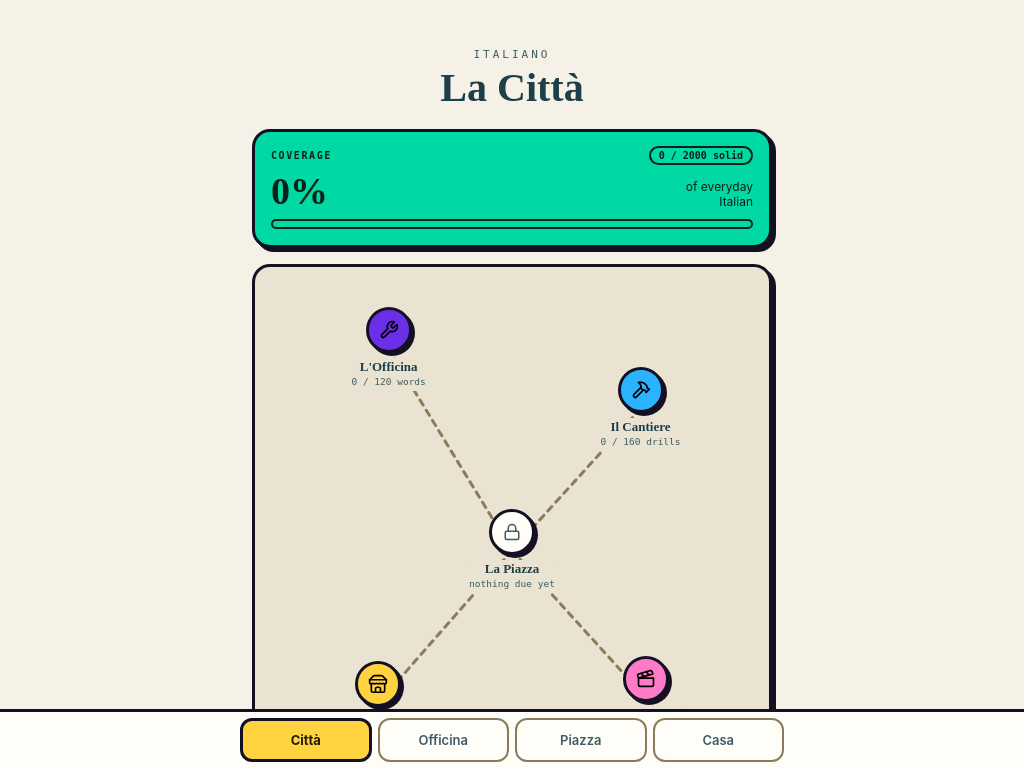
Lo Stadio › opens from Casa, under the Casa tab, and comes back
Click the button "Casa". click: (718, 740)
box: [652, 718, 784, 762]
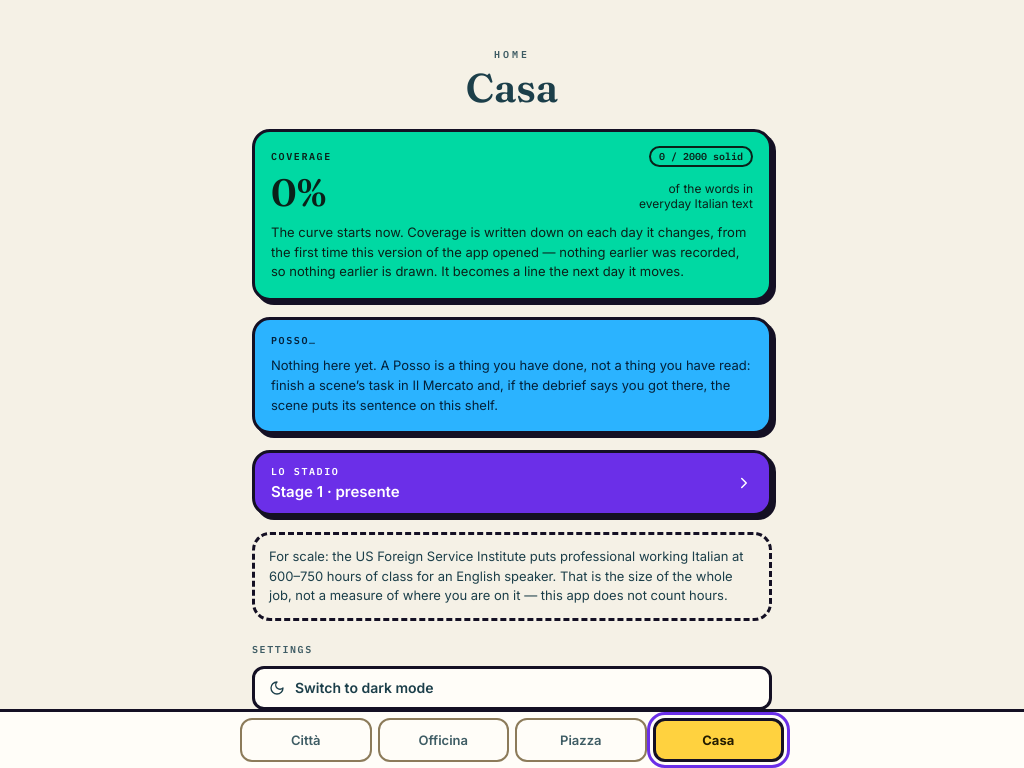
Click the button "Lo Stadio Stage 1 · presente". click: (305, 472)
box: [252, 450, 772, 516]
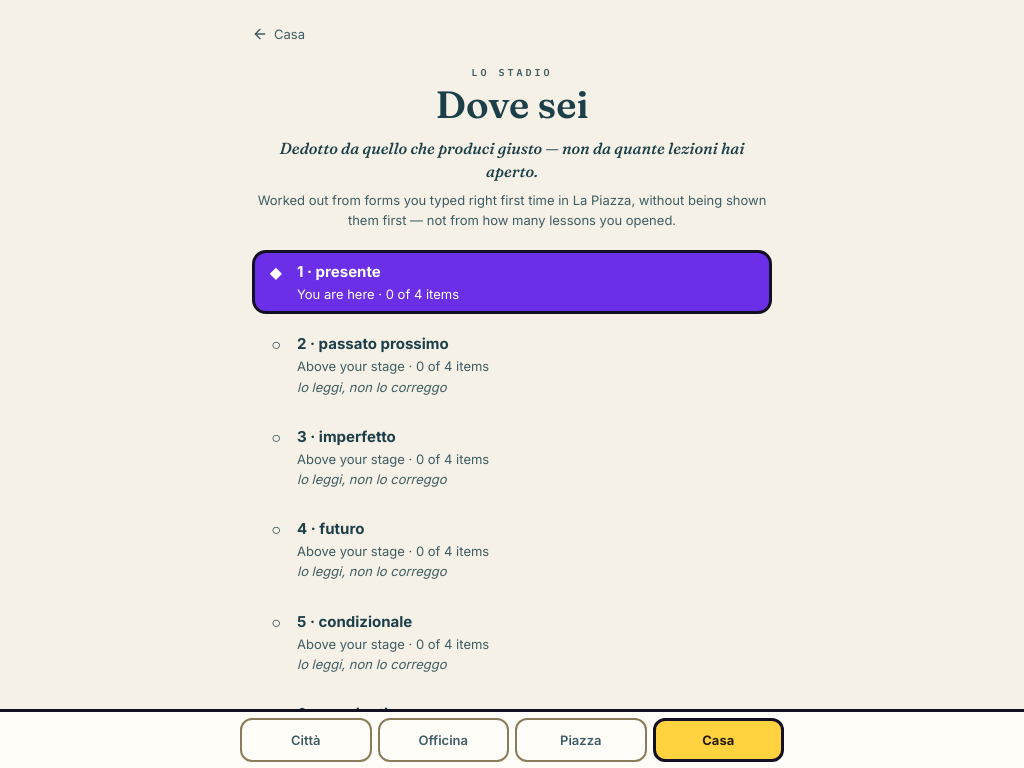
Result: the heading "Dove sei" is shown at [436, 81, 588, 128]
Click the 1st button "Casa". click: (282, 34)
box: [252, 20, 311, 48]
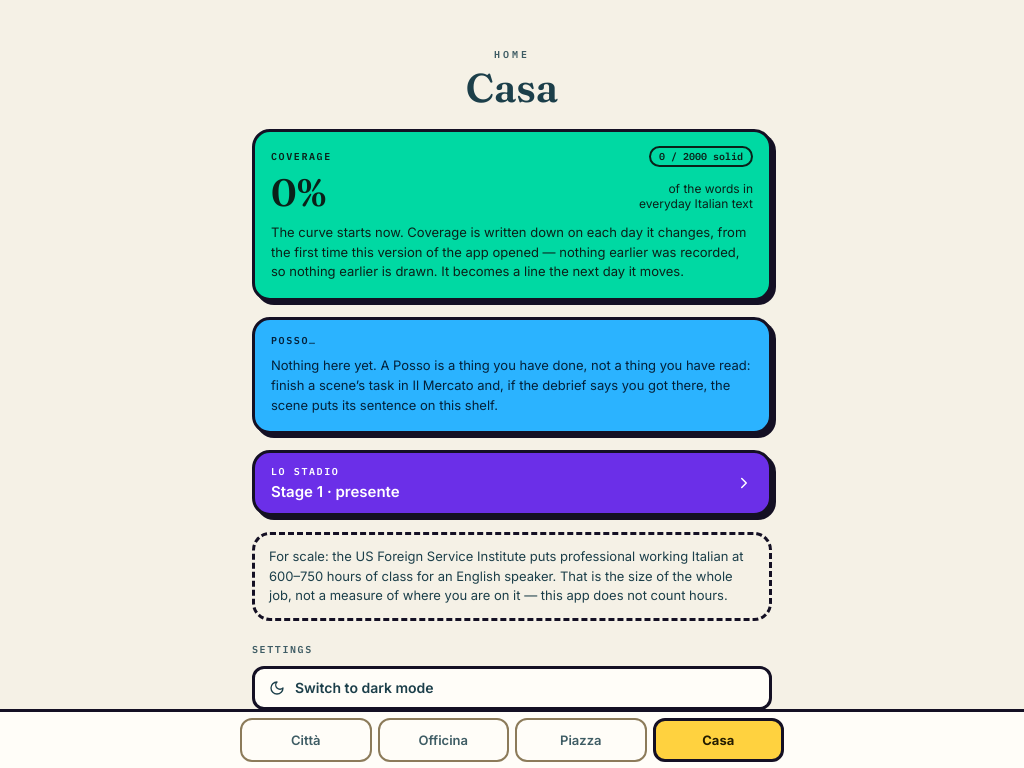
Result: the heading "Casa" is shown at [466, 63, 558, 112]
